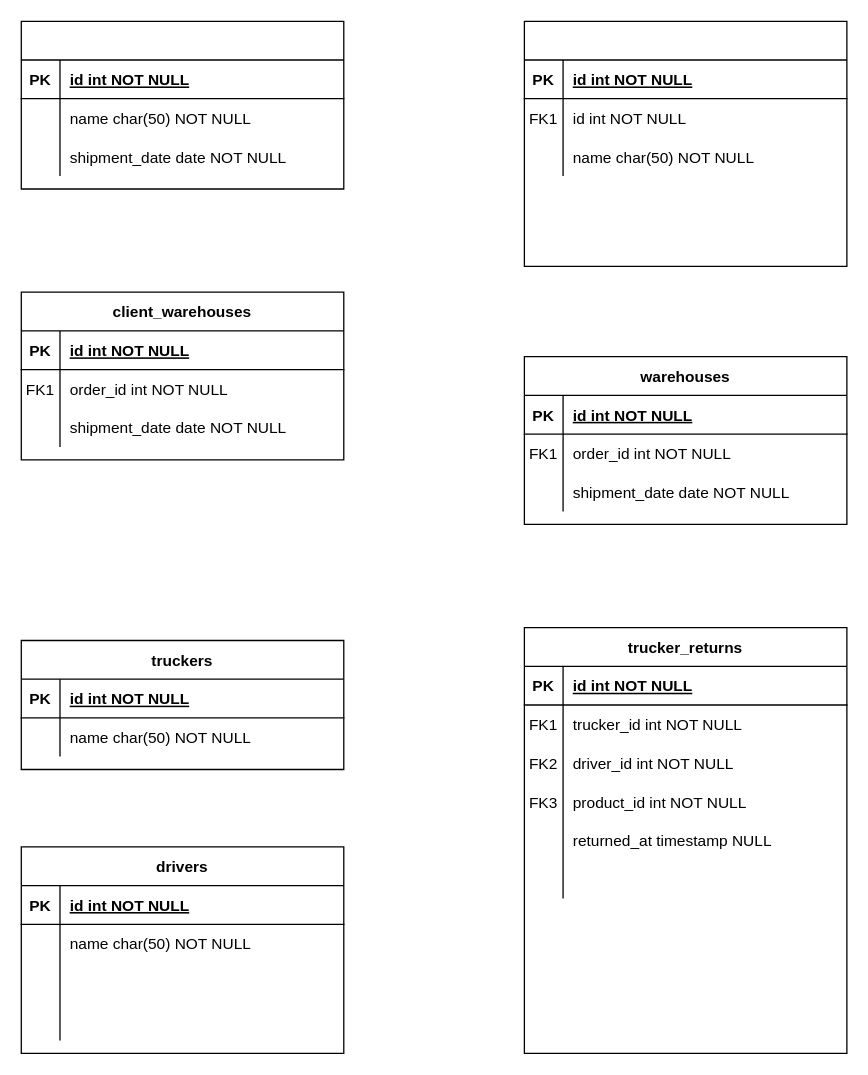
Some shapes in this 868 by 1075 pixel diagram are drawn without their labels. Each missing label, with the box of its shape:
clients: (20, 20, 344, 189)
products: (523, 20, 847, 266)
